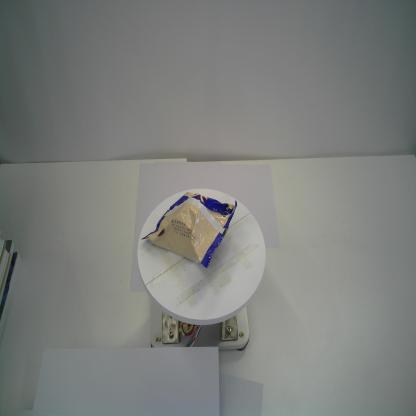Dessert: (141, 191, 238, 268)
